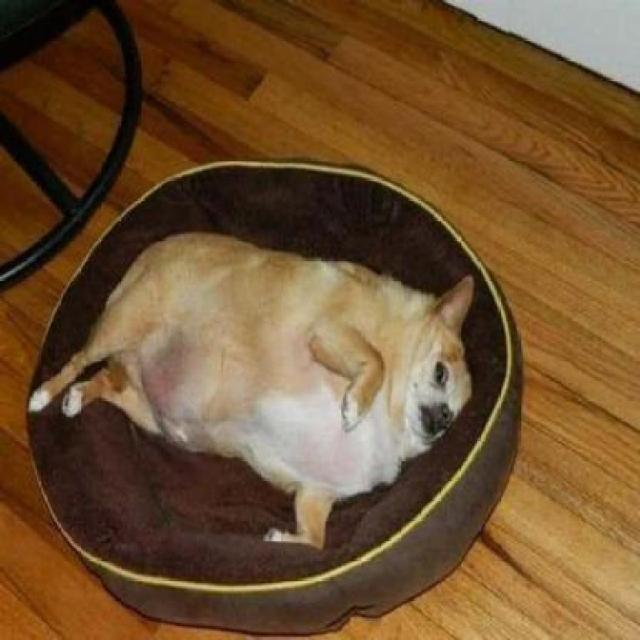Dog: (24, 223, 482, 552)
